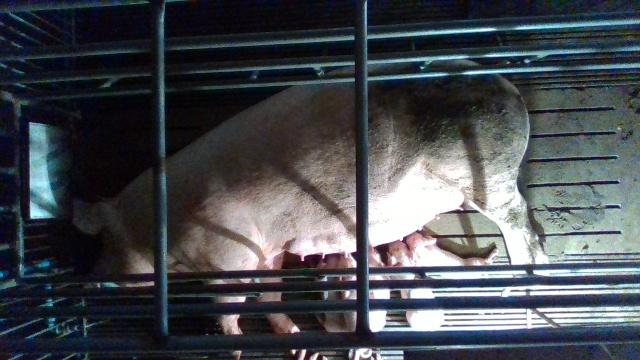piglet: (386, 238, 445, 328), (406, 232, 498, 282), (315, 250, 347, 332), (337, 248, 364, 329), (367, 243, 392, 330)
sow-sleep-lactate: (73, 63, 531, 360)
